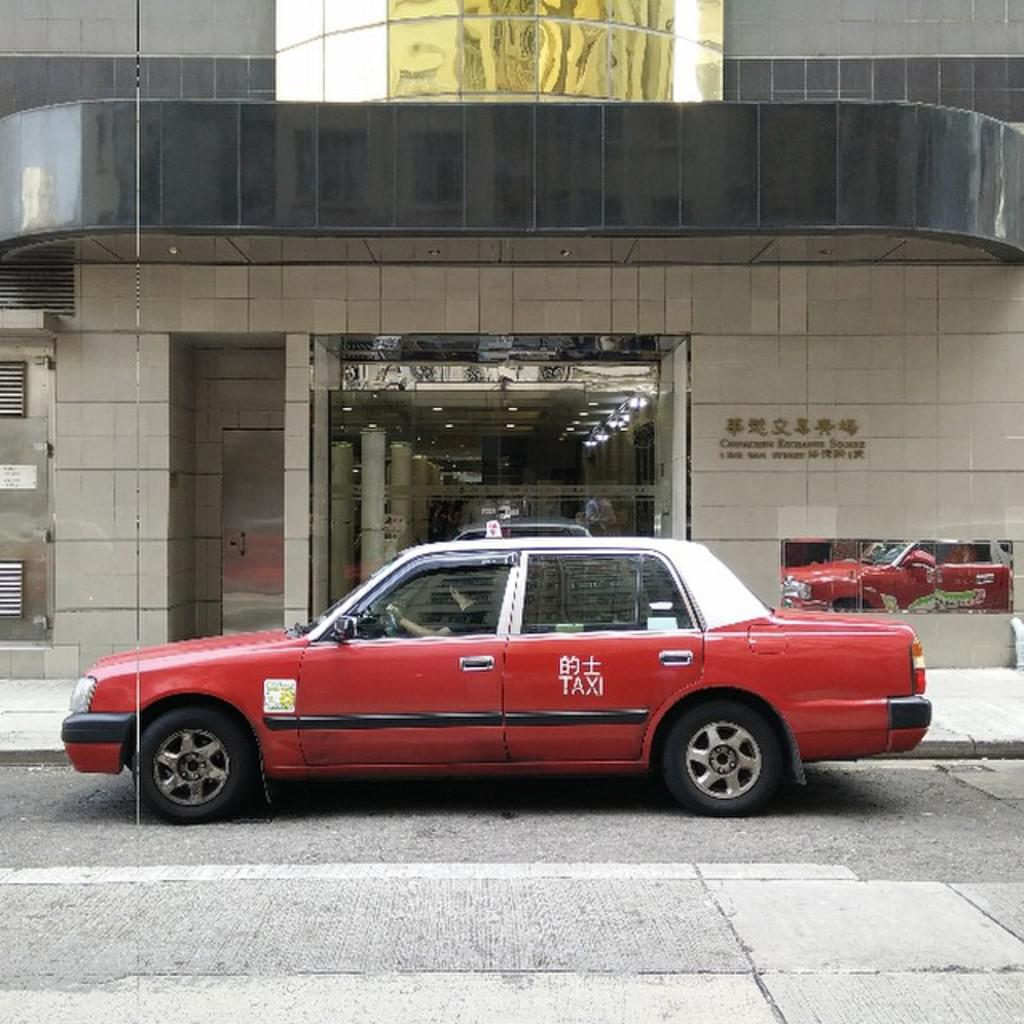taxi: (61, 520, 933, 819)
